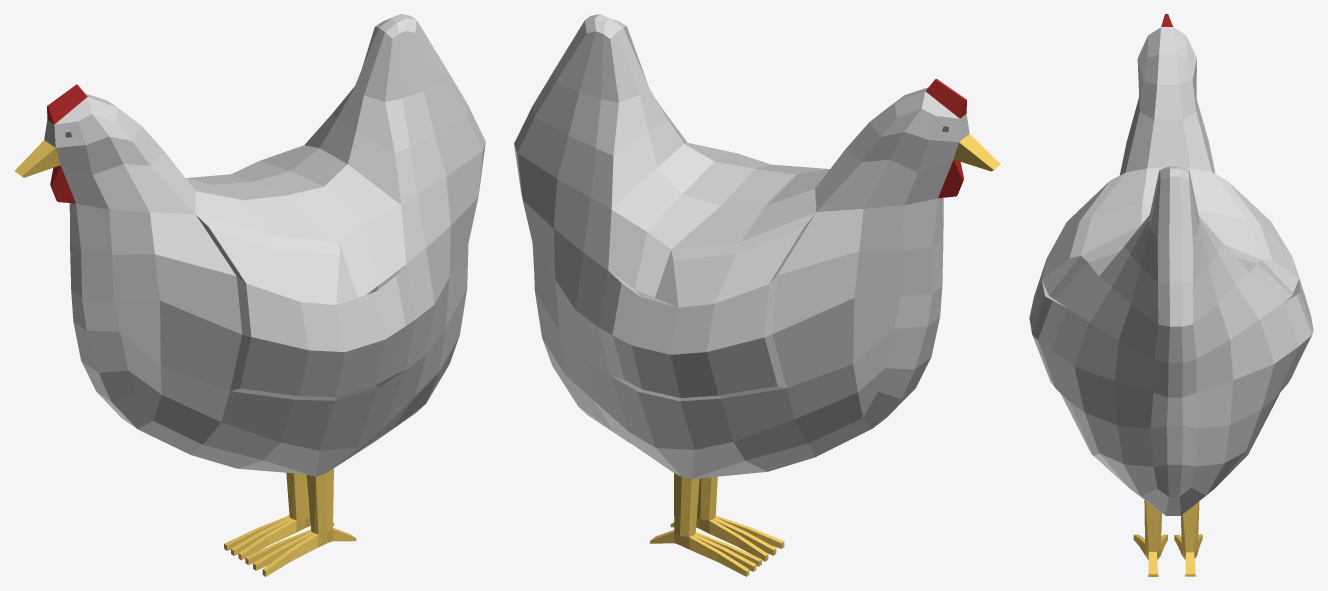
The model's file is chicken.fbx.
3 views of the same model, side by side, from view 1: azimuth 30°, elevation 25°; view 2: azimuth 150°, elevation 25°; view 3: azimuth 270°, elevation 25° (orthographic). The views are drawn at different scales.
Visible parts, largest first — view 1: Chicken; view 2: Chicken; view 3: Chicken.
Part boxes in pixels (x1=…): Chicken: x1=14, y1=14, x2=485, y2=576; Chicken: x1=514, y1=14, x2=1000, y2=576; Chicken: x1=1029, y1=14, x2=1313, y2=576.
Bounding box in the file's own units: 37.47 × 39.56 × 22.47.
